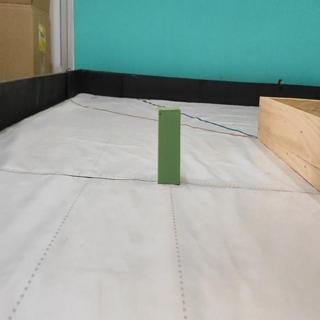greenbox: (157, 106, 181, 184)
